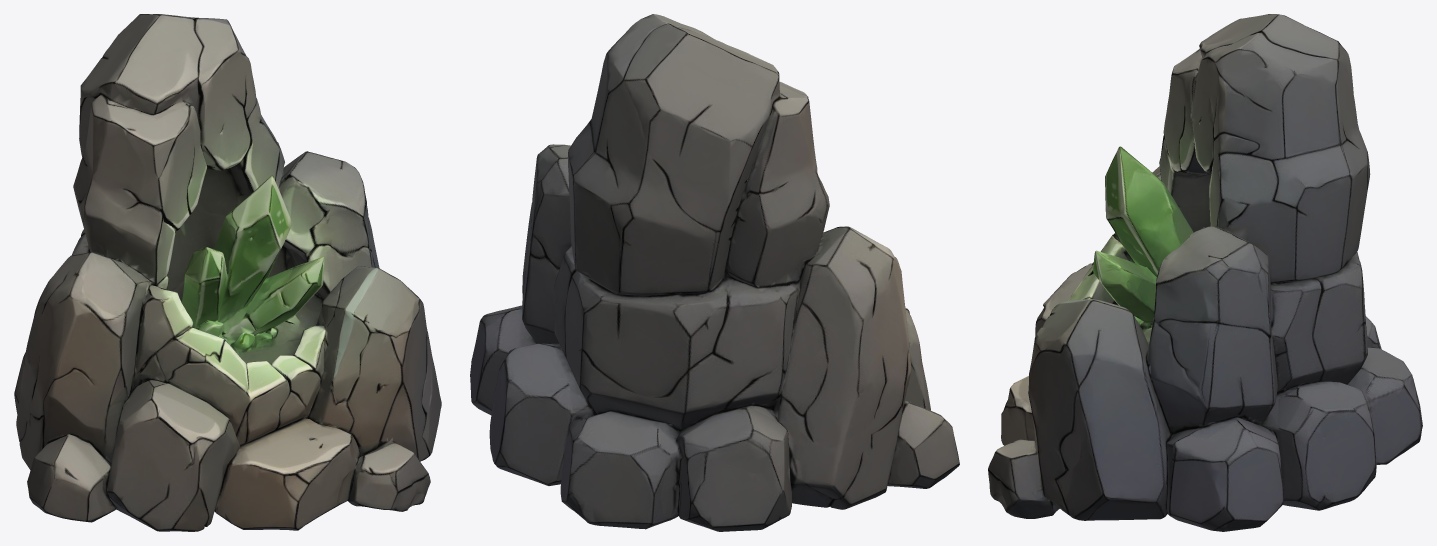
Rendered from Crystal_green.glb.
The picture shows the model from 3 angles, left to right: view 1: azimuth 30°, elevation 25°; view 2: azimuth 150°, elevation 25°; view 3: azimuth 270°, elevation 25°; orthographic projection. The views are drawn at different scales.
Visible parts, largest first — view 1: tripo_node_41a0644f-e389-4f95-b71f-fffd3c2ad030; view 2: tripo_node_41a0644f-e389-4f95-b71f-fffd3c2ad030; view 3: tripo_node_41a0644f-e389-4f95-b71f-fffd3c2ad030.
Boxes of the visible parts, bbox=[...] form: tripo_node_41a0644f-e389-4f95-b71f-fffd3c2ad030: bbox=[14, 14, 441, 531]; tripo_node_41a0644f-e389-4f95-b71f-fffd3c2ad030: bbox=[470, 14, 959, 531]; tripo_node_41a0644f-e389-4f95-b71f-fffd3c2ad030: bbox=[988, 14, 1422, 531].
Size of the model in its own units: 0.9974 by 1 by 0.8961.
Materials: 1 (1 with a texture image).
